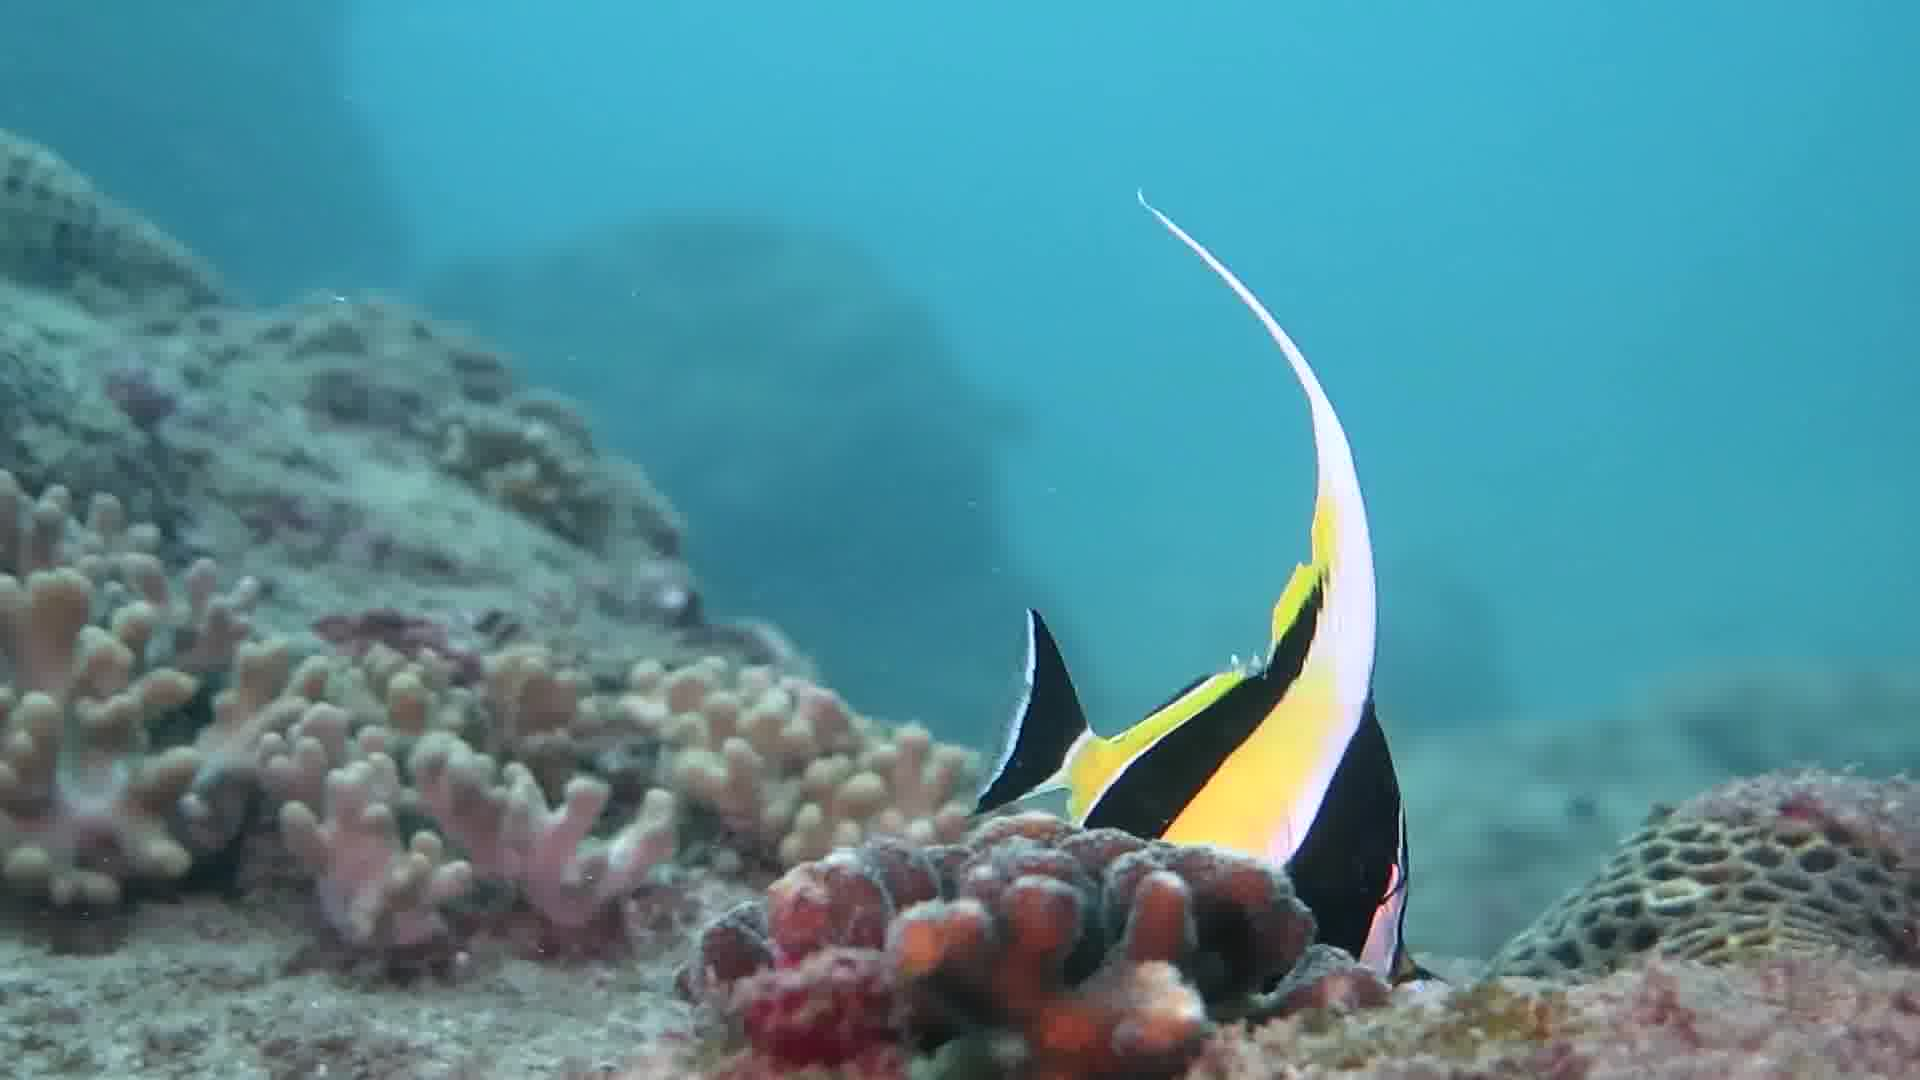Zanclus cornutus: (957, 491, 1474, 994)
